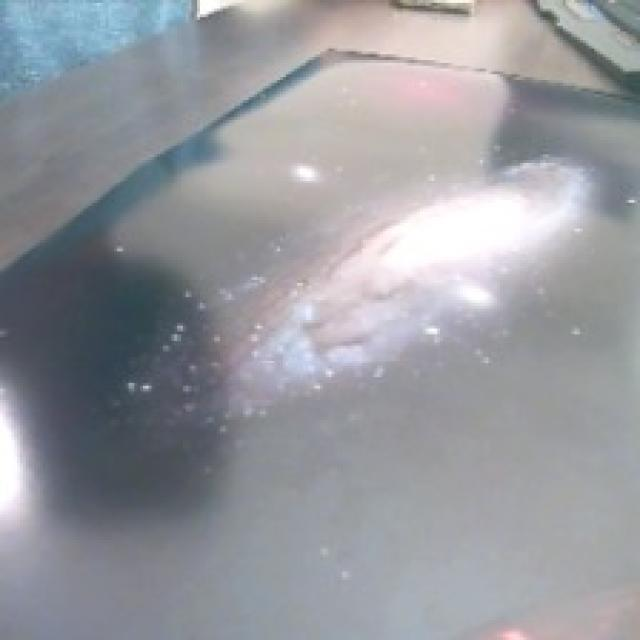Galaxy: (137, 160, 591, 420)
